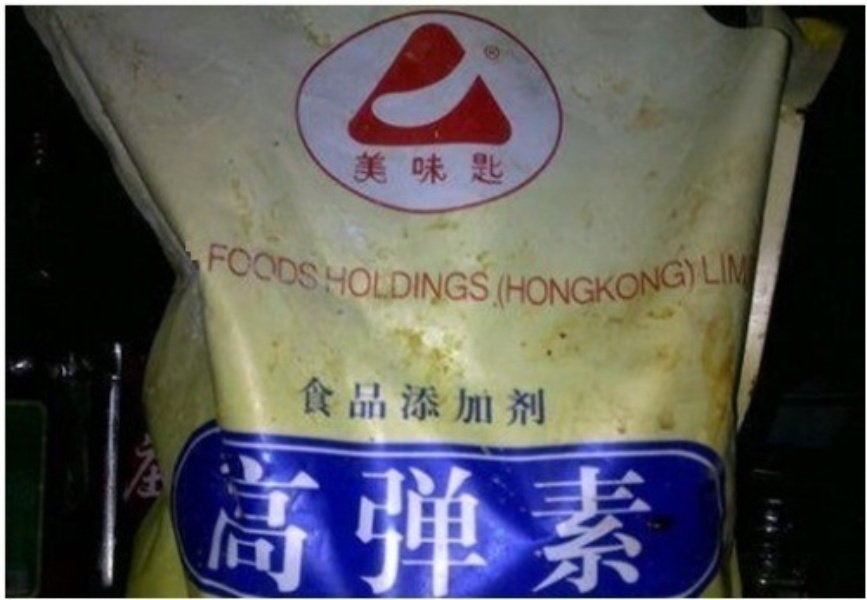text: (225, 450, 240, 599), (241, 450, 256, 599), (257, 450, 272, 599), (273, 450, 288, 599), (289, 450, 304, 599), (305, 450, 320, 599), (321, 450, 336, 599), (337, 450, 352, 599), (353, 450, 368, 599), (369, 450, 384, 599), (385, 450, 400, 599), (401, 450, 416, 599), (417, 450, 432, 599), (433, 450, 448, 599), (449, 450, 464, 599), (465, 450, 480, 599), (481, 450, 496, 599), (497, 450, 512, 599), (513, 450, 528, 599), (529, 450, 544, 599), (545, 450, 560, 599), (561, 450, 576, 599), (577, 450, 592, 599), (593, 450, 608, 599), (609, 450, 624, 599), (625, 450, 640, 599), (641, 450, 656, 599), (210, 450, 224, 599), (129, 436, 144, 500), (145, 436, 160, 500), (305, 238, 321, 295), (209, 238, 224, 295), (225, 238, 240, 295), (241, 238, 256, 295), (257, 238, 272, 295), (273, 238, 288, 295), (289, 238, 304, 295), (497, 257, 512, 313), (513, 257, 528, 313), (529, 257, 544, 313), (545, 257, 560, 313), (561, 257, 576, 313), (577, 257, 592, 313), (593, 257, 608, 313), (609, 257, 624, 313), (625, 257, 640, 313), (641, 257, 656, 313), (657, 257, 672, 313), (673, 257, 688, 313), (305, 377, 320, 429), (321, 377, 336, 429), (337, 377, 352, 429), (353, 377, 368, 429), (369, 377, 384, 429), (385, 377, 400, 429), (401, 377, 416, 429), (417, 377, 432, 429), (433, 377, 448, 429), (449, 377, 464, 429), (465, 377, 480, 429), (481, 377, 496, 429), (497, 377, 512, 429), (513, 377, 528, 429), (529, 377, 544, 429), (337, 264, 352, 309), (353, 264, 368, 309), (369, 264, 384, 309), (385, 264, 400, 309), (401, 264, 416, 309), (417, 264, 432, 309), (433, 264, 448, 309), (449, 264, 464, 309), (465, 264, 480, 309), (481, 264, 496, 309), (353, 151, 368, 188), (369, 151, 384, 188), (385, 151, 400, 188), (401, 151, 416, 188), (417, 151, 432, 188), (433, 151, 448, 188), (449, 151, 464, 188), (465, 151, 480, 188), (481, 151, 496, 188), (705, 252, 720, 288), (721, 252, 736, 288), (161, 436, 169, 500), (689, 257, 698, 313), (325, 264, 336, 309), (737, 252, 750, 288), (497, 151, 507, 188), (124, 436, 128, 500), (347, 151, 352, 188), (699, 252, 704, 288), (545, 377, 548, 429), (497, 264, 500, 309), (302, 377, 304, 429), (495, 257, 496, 313)
